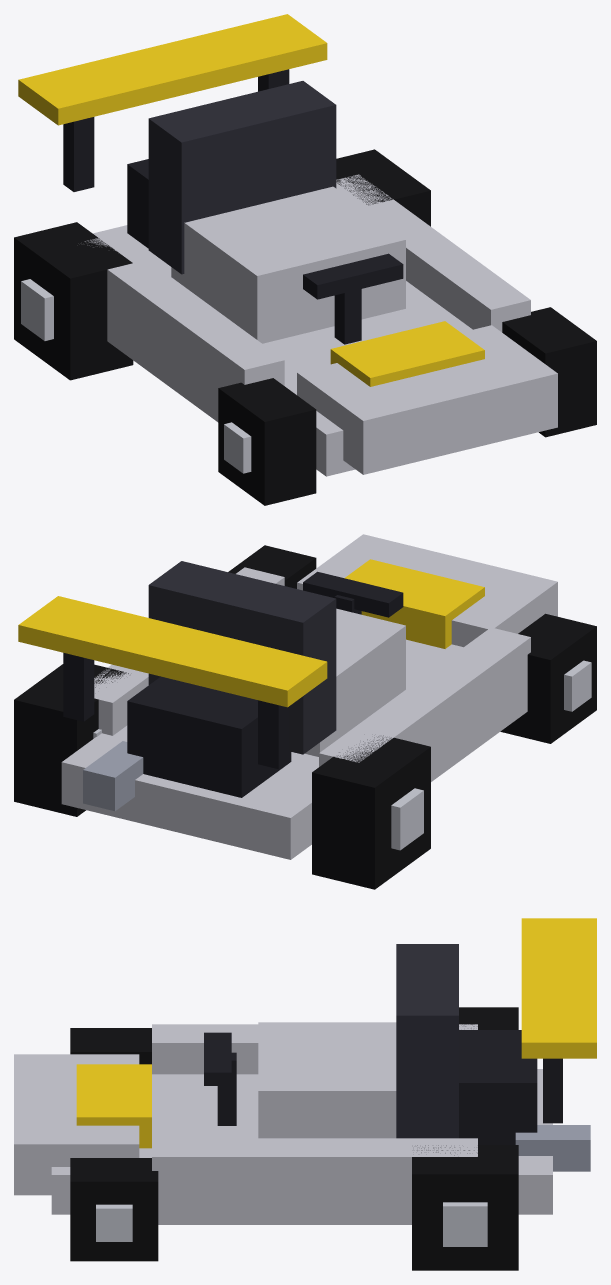
The model's file is kart.obj.
3 renders of one model, top to bottom at view 1: azimuth 30°, elevation 25°; view 2: azimuth 150°, elevation 25°; view 3: azimuth 270°, elevation 25°, orthographic. The views are drawn at different scales.
Parts seen in each view (by area): view 1: hull, trim, wheel_rl, wheel_fl, wheel_fr, wheel_rr; view 2: trim, hull, wheel_rl, wheel_fl, wheel_rr, wheel_fr; view 3: hull, trim, wheel_rr, wheel_fr, wheel_fl, wheel_rl.
Part boxes in pixels (bbox=[...]): hull: bbox=[84, 174, 557, 476]; trim: bbox=[18, 14, 484, 386]; wheel_rl: bbox=[14, 222, 133, 380]; wheel_fl: bbox=[218, 378, 316, 505]; wheel_fr: bbox=[502, 307, 596, 437]; wheel_rr: bbox=[336, 149, 430, 226]; trim: bbox=[18, 559, 484, 811]; hull: bbox=[61, 534, 557, 859]; wheel_rl: bbox=[312, 735, 430, 889]; wheel_fl: bbox=[500, 613, 596, 743]; wheel_rr: bbox=[14, 664, 128, 816]; wheel_fr: bbox=[228, 545, 316, 588]; hull: bbox=[14, 1022, 552, 1224]; trim: bbox=[76, 918, 596, 1171]; wheel_rr: bbox=[412, 1145, 518, 1270]; wheel_fr: bbox=[70, 1158, 158, 1261]; wheel_fl: bbox=[70, 1028, 151, 1064]; wheel_rl: bbox=[459, 1007, 518, 1029].
Size of the model in its own units: 0.662 by 0.365 by 0.93.
